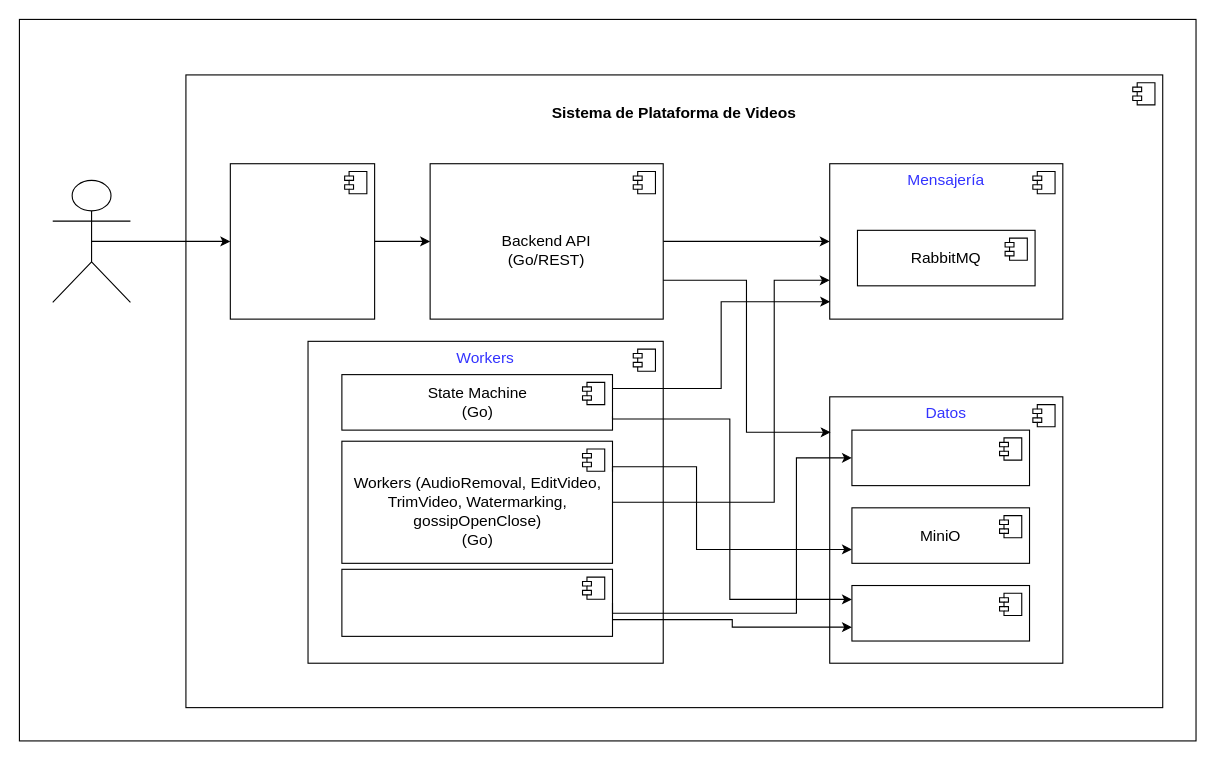
Image size: 1215x760. Some labels were removed from this diagram. The centre of each missing label's shape, as x and y in pixels:
"Admin Cache (Go)" belongs at pixel 476 602.
"Frontend (Nginx/SPA)" belongs at pixel 302 241.
"PostgresSQL" belongs at pixel 940 612.
"Redis Cache" belongs at pixel 940 457.
"Usuaio" belongs at pixel 91 240.
